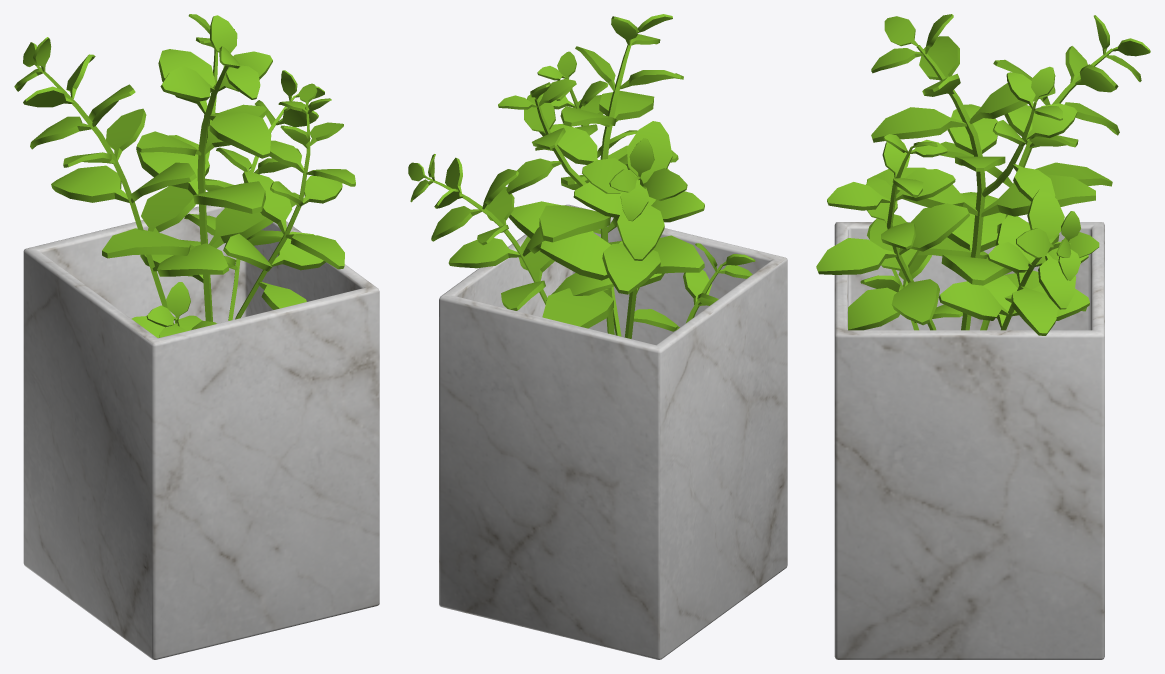
File: mint-pot.fbx
3 renders of one model, left to right at view 1: azimuth 30°, elevation 25°; view 2: azimuth 150°, elevation 25°; view 3: azimuth 270°, elevation 25°, orthographic. The views are drawn at different scales.
Parts seen in each view (by area): view 1: mint_pot, mint_plant; view 2: mint_pot, mint_plant; view 3: mint_pot, mint_plant.
Part boxes in pixels (x1,y1,x2,y2): mint_pot: (23, 205, 379, 659); mint_plant: (14, 14, 355, 337); mint_pot: (439, 204, 787, 659); mint_plant: (408, 14, 755, 338); mint_pot: (834, 222, 1104, 659); mint_plant: (816, 14, 1150, 335).
Size of the model in its own units: 0.1929 by 0.3624 by 0.1857.
